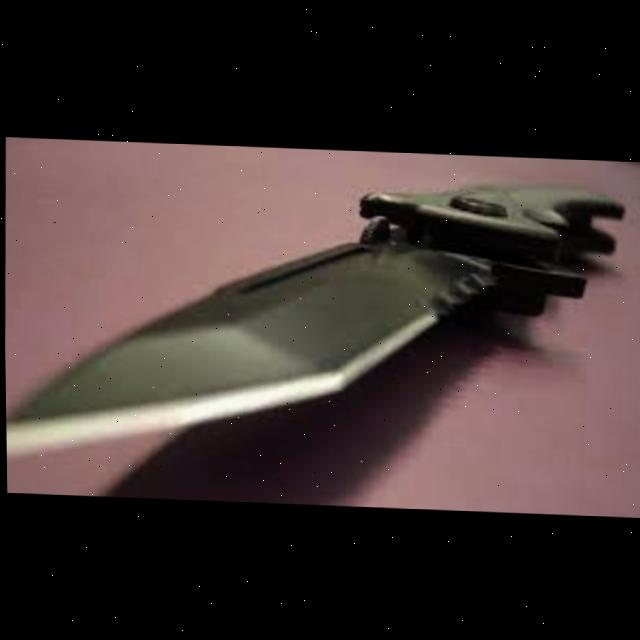Knife: (2, 162, 625, 482)
